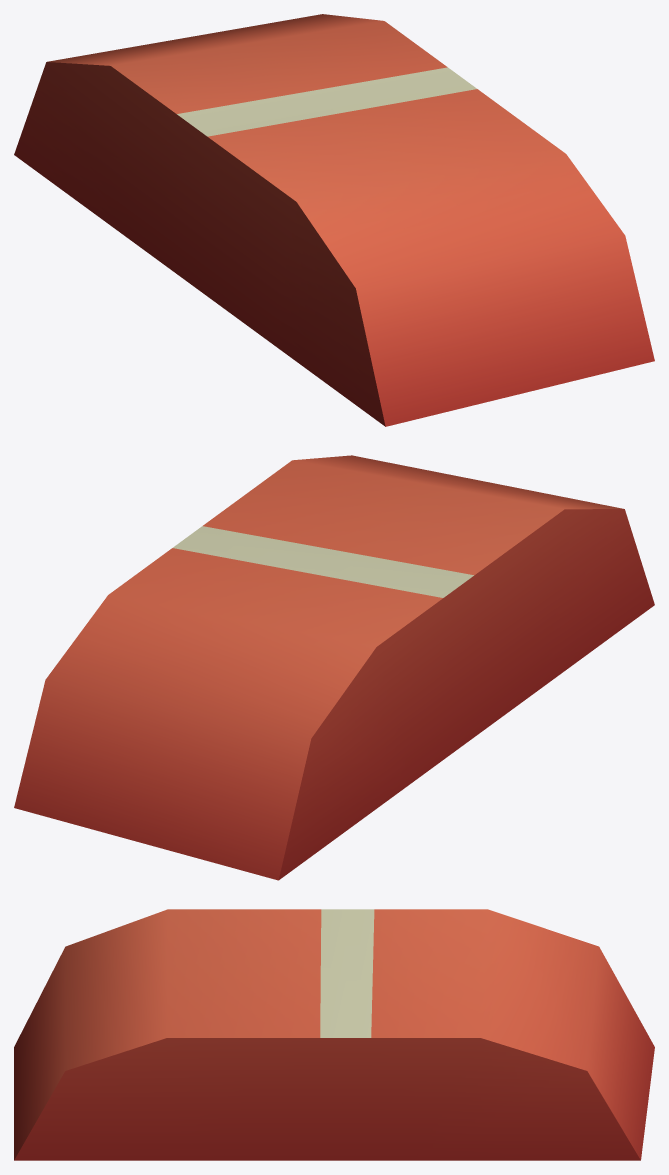
File: Salmon_Meat_02.glb
The picture shows the model from 3 angles, top to bottom: view 1: azimuth 30°, elevation 25°; view 2: azimuth 150°, elevation 25°; view 3: azimuth 270°, elevation 25°; orthographic projection. The views are drawn at different scales.
Visible parts, largest first — view 1: Salmon_Meat_02; view 2: Salmon_Meat_02; view 3: Salmon_Meat_02.
Boxes of the visible parts, x1=… form: Salmon_Meat_02: x1=14, y1=14, x2=654, y2=426; Salmon_Meat_02: x1=14, y1=455, x2=654, y2=880; Salmon_Meat_02: x1=14, y1=909, x2=654, y2=1160.
Size of the model in its own units: 0.139 by 0.0788 by 0.3321.
Materials: 1 (1 with a texture image).
